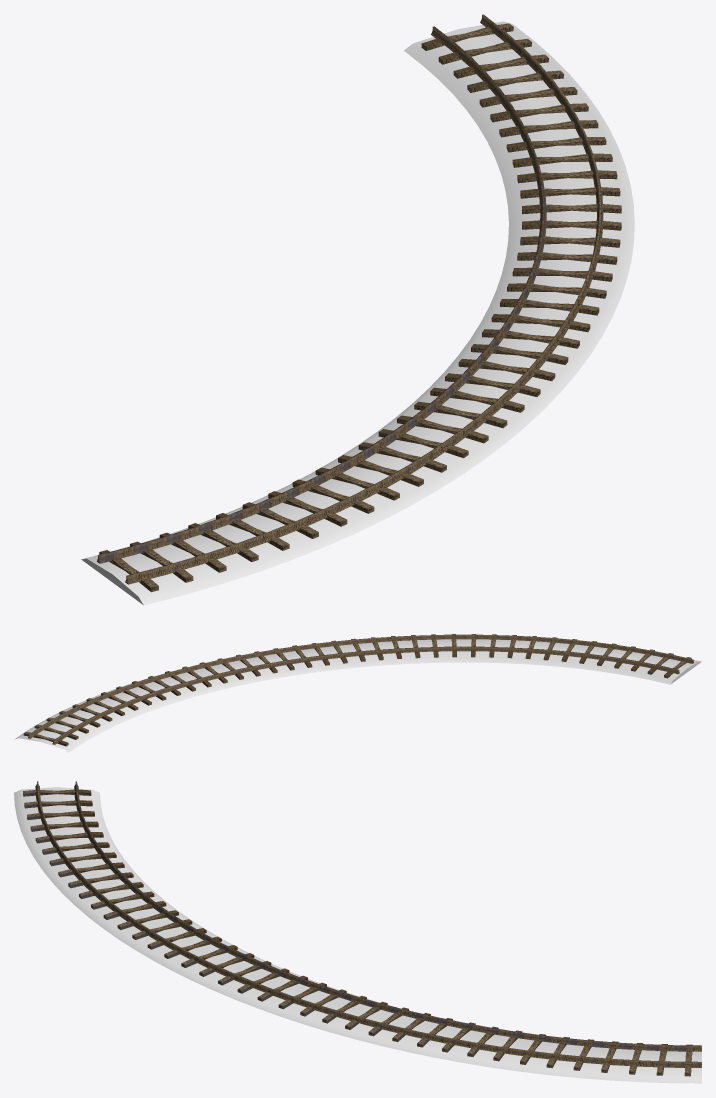
The model's file is Rail turn 90_LOD1.fbx.
The picture shows the model from 3 angles, top to bottom: view 1: azimuth 30°, elevation 25°; view 2: azimuth 150°, elevation 25°; view 3: azimuth 270°, elevation 25°; orthographic projection. The views are drawn at different scales.
Parts seen in each view (by area): view 1: Rail_turn_90_LOD1; view 2: Rail_turn_90_LOD1; view 3: Rail_turn_90_LOD1.
Boxes of the visible parts, left/top/right/bottom form: Rail_turn_90_LOD1: left=81, top=14, right=634, bottom=605; Rail_turn_90_LOD1: left=14, top=634, right=701, bottom=752; Rail_turn_90_LOD1: left=14, top=781, right=701, bottom=1083.
Size of the model in its own units: 8 by 0.1466 by 8.
